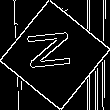N_E: (28, 33, 82, 77)
